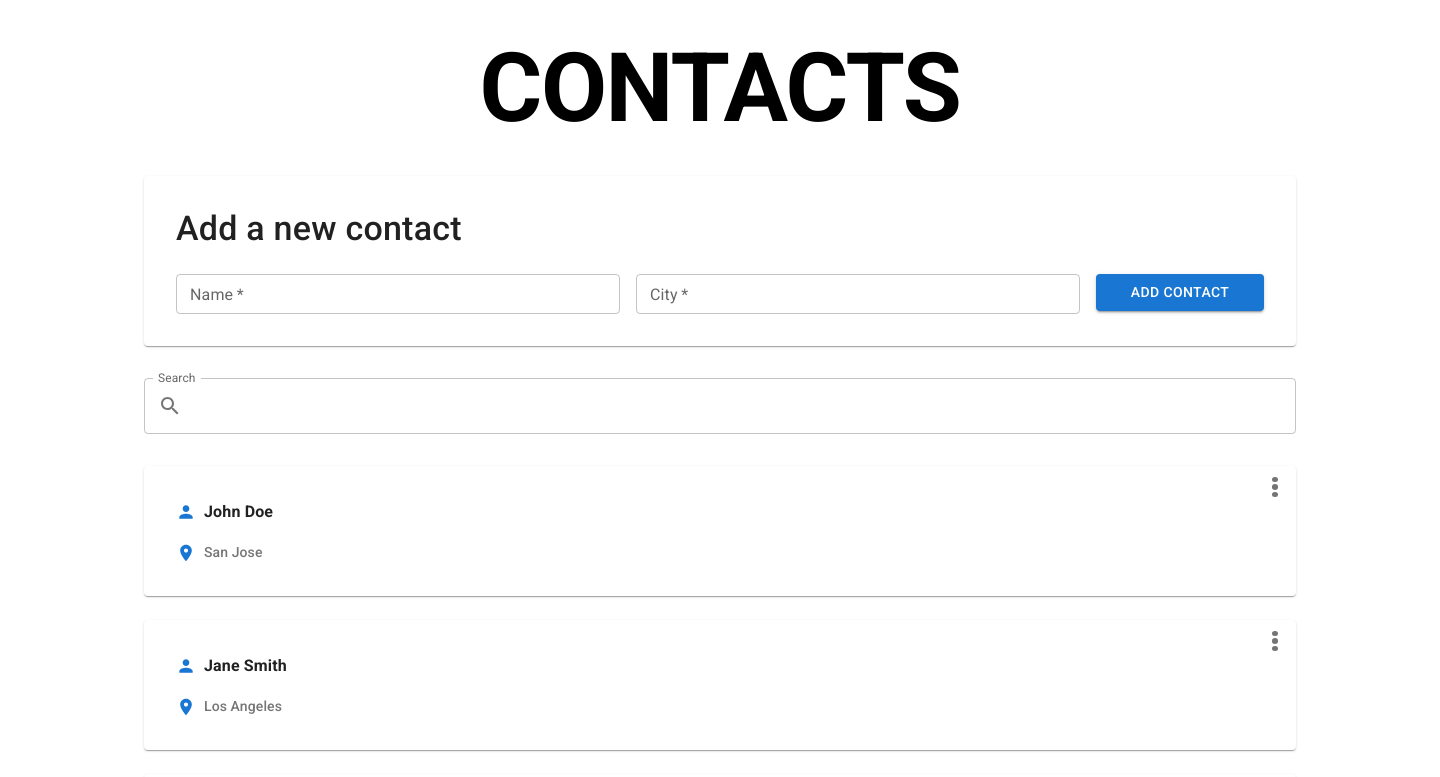
Test: Contacts page › should edit first contact item from list
Expected: the heading "John Doe" is shown, [204,498,273,526]
Expected: the heading "San Jose" is shown, [204,542,262,564]
Click the button without text in the row of "John Doe": (1275, 487) [1257,469,1293,505]
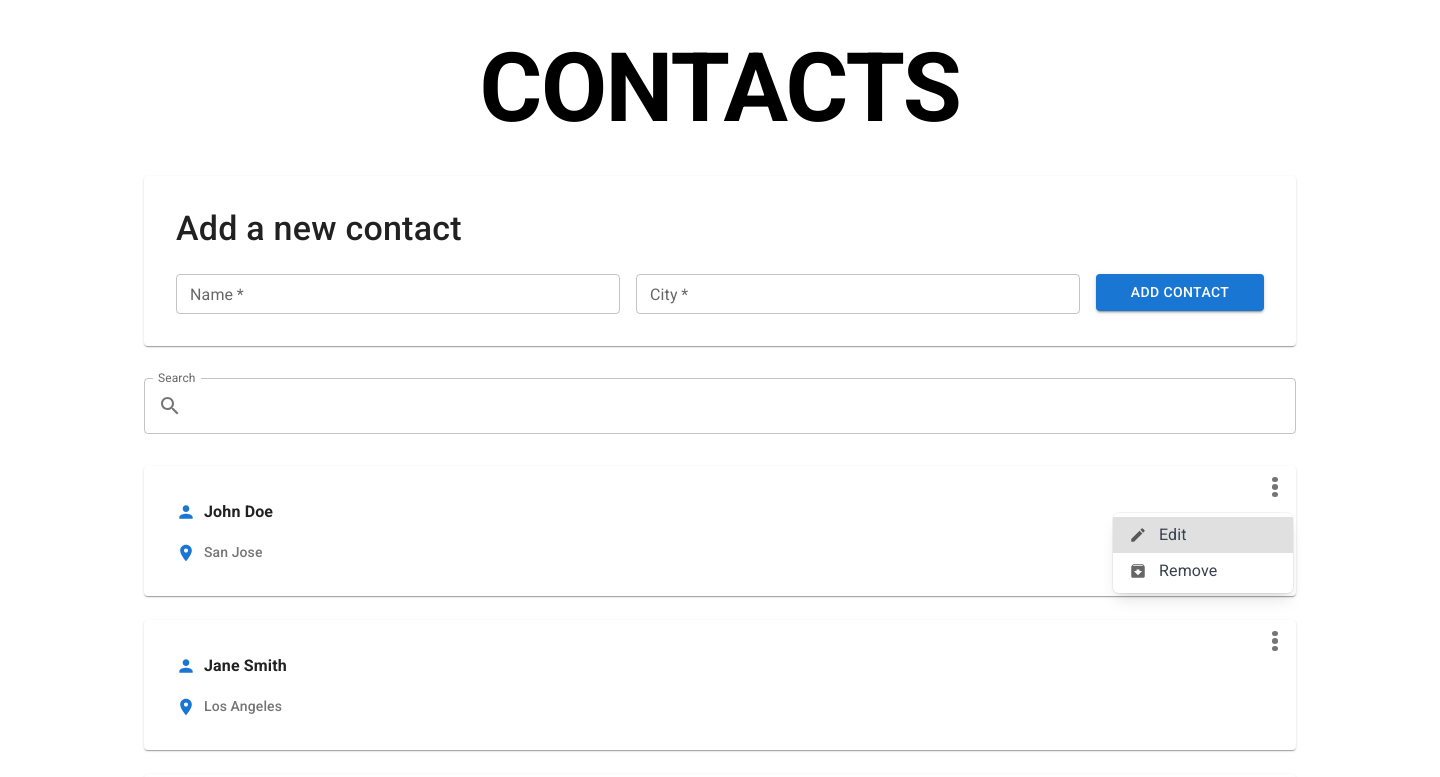
Expected: the list item "Edit" is shown
Click the list item "Edit": (1203, 535) [1113,517,1293,553]
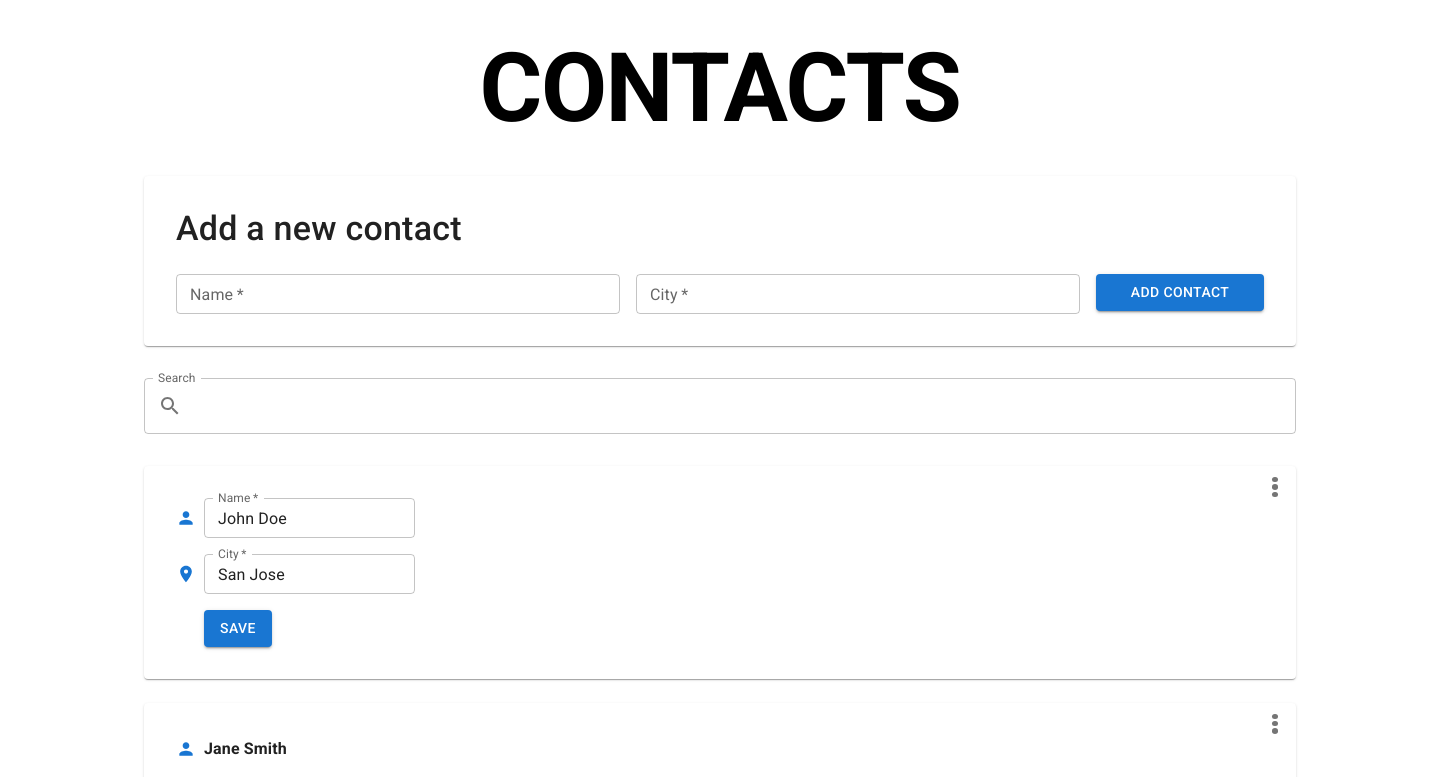
Expected: the 2nd field labelled "Name *" holds "John Doe"
Expected: the 2nd field labelled "City *" holds "San Jose", [204,554,415,594]
Replace the text in the 2nd field labelled "Name *" with "Diana Miller": (310, 518) [204,498,415,538]
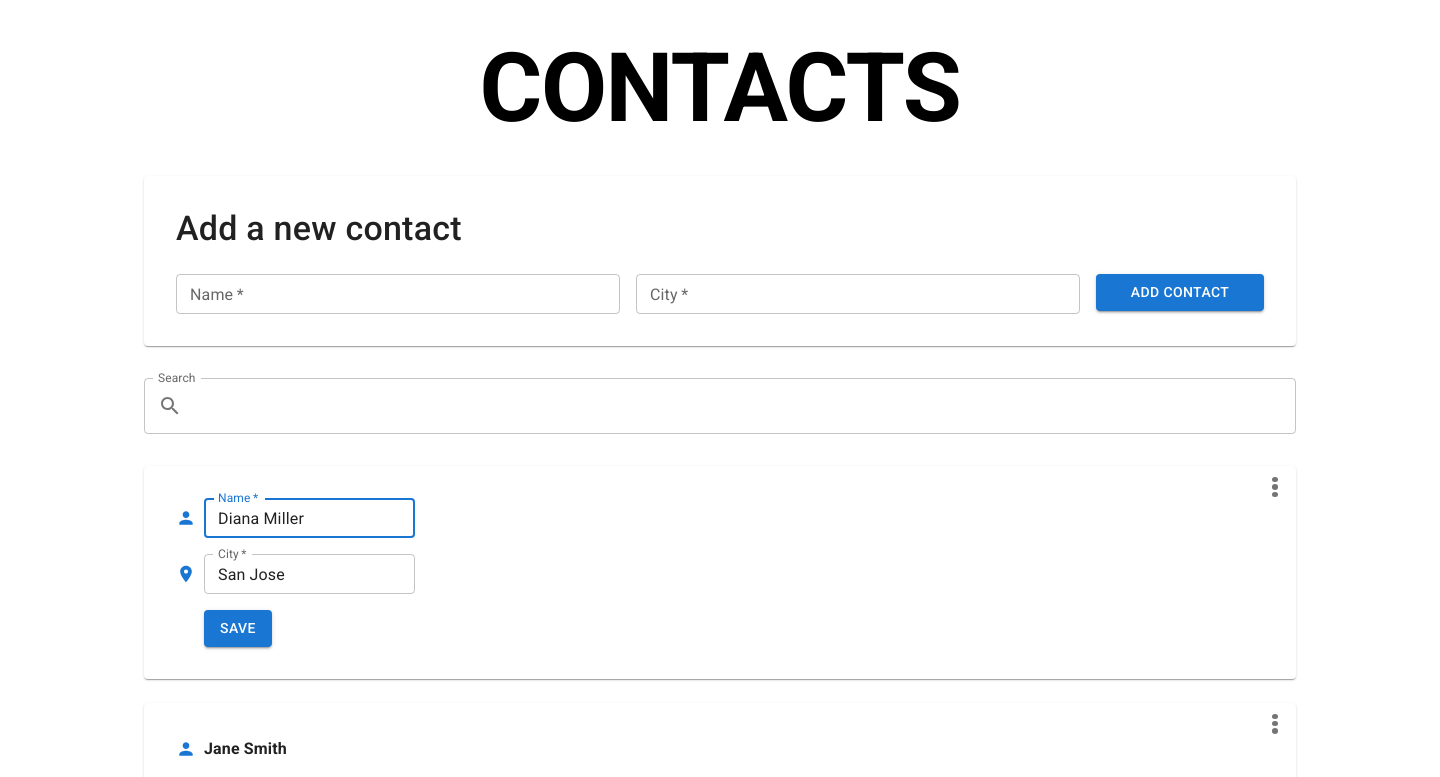
Replace the text in the 2nd field labelled "City *" with "Philadelphia": (310, 574) [204,554,415,594]
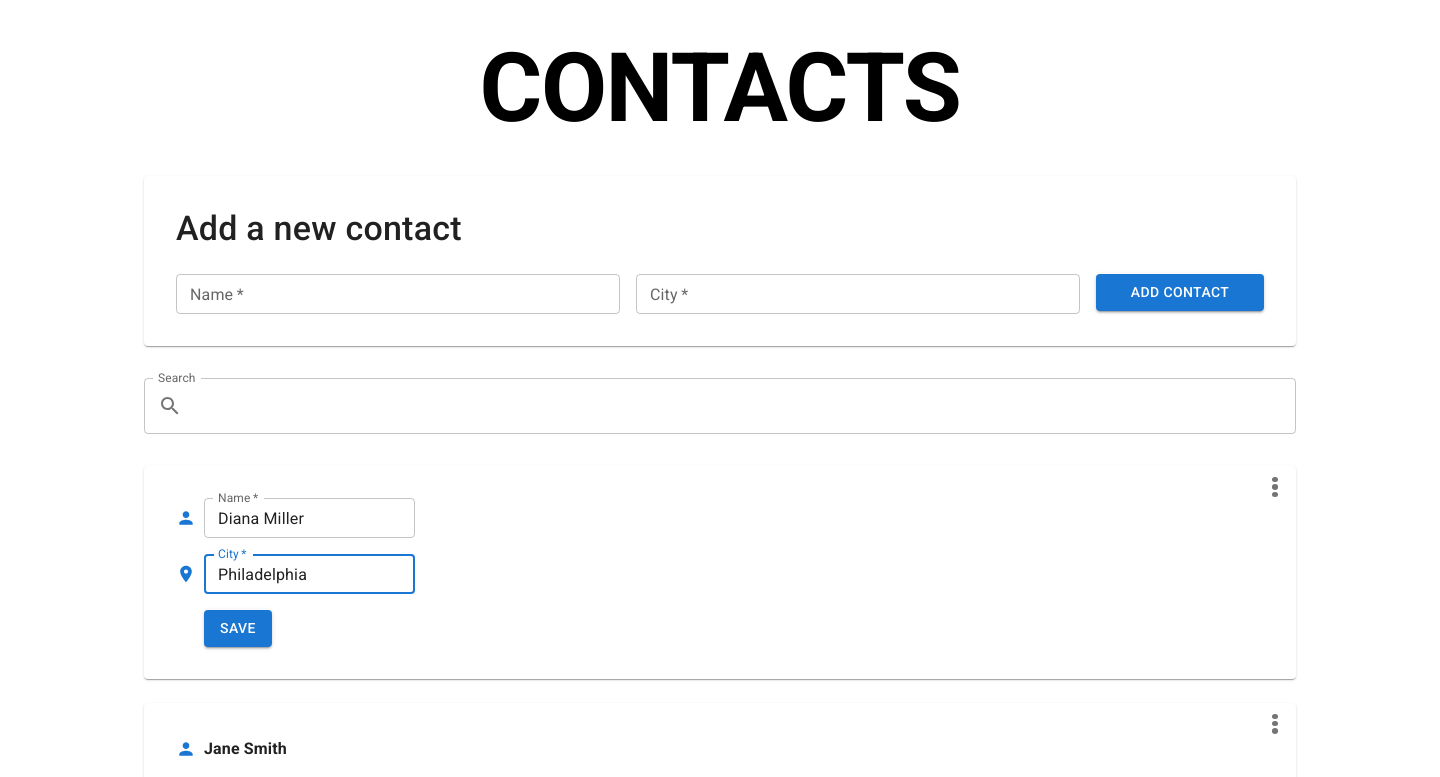
Click the button "Save": (238, 628) [204,610,272,646]
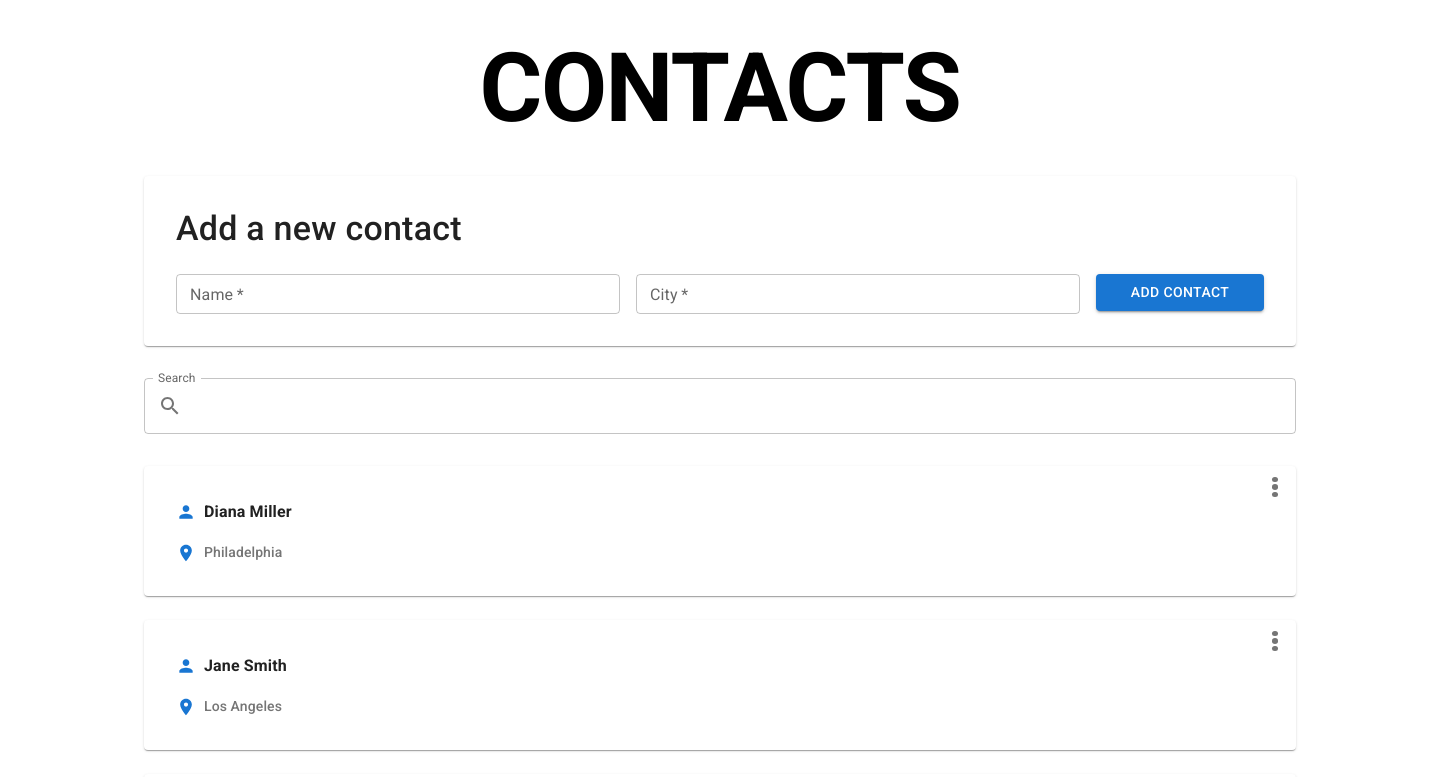
Expected: the heading "Diana Miller" is shown, [204,498,292,526]
Expected: the heading "Philadelphia" is shown, [204,542,282,564]
